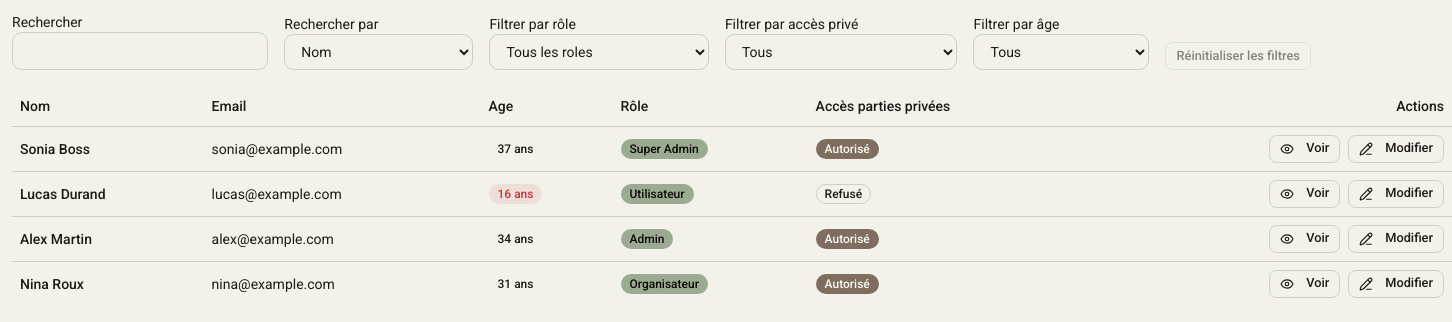
Test case: UserTable › resets all filters when clicking the reset button
Expected: the button "Réinitialiser les filtres" is disabled, [1166,42,1311,70]
Select "Admin" in the dropdown labelled "Filtrer par rôle". click: (599, 52)
box: [489,34,709,70]
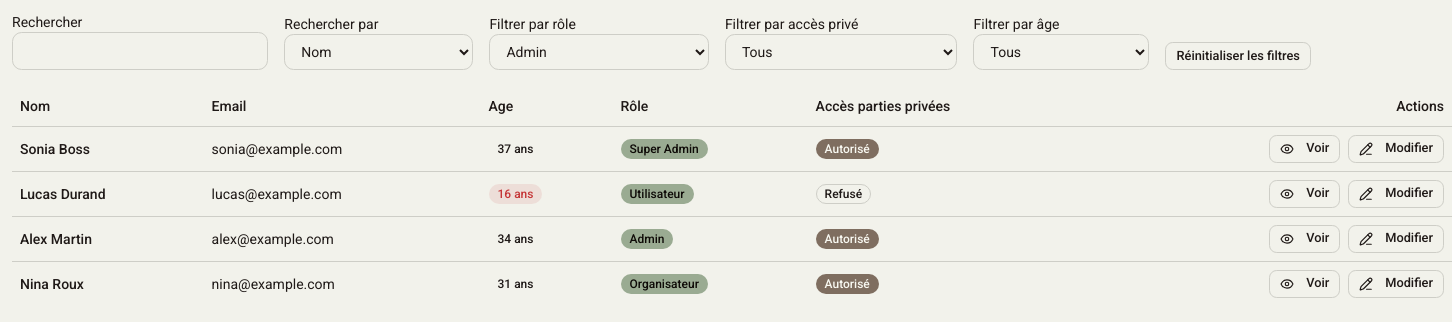
Select "Refusé" in the dropdown labelled "Filtrer par accès privé". click: (841, 52)
box: [725,34,958,70]
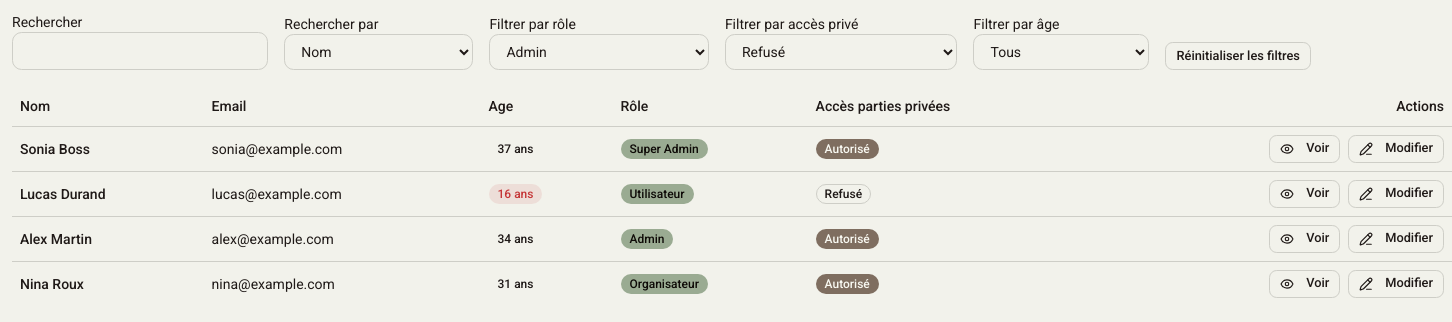
Select "Mineur" in the dropdown labelled "Filtrer par âge". click: (1062, 52)
box: [974,34,1150,70]
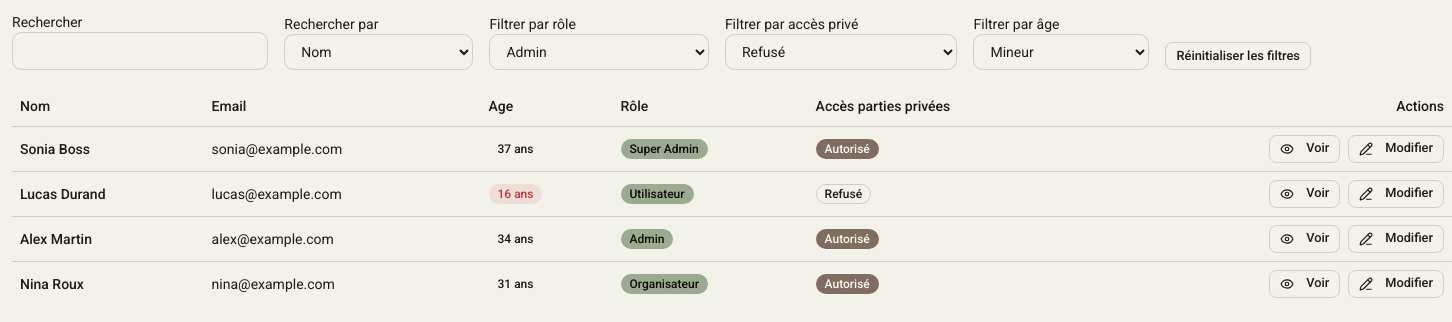
Select "Prénom" in the dropdown labelled "Rechercher par". click: (379, 52)
box: [284,34,473,70]
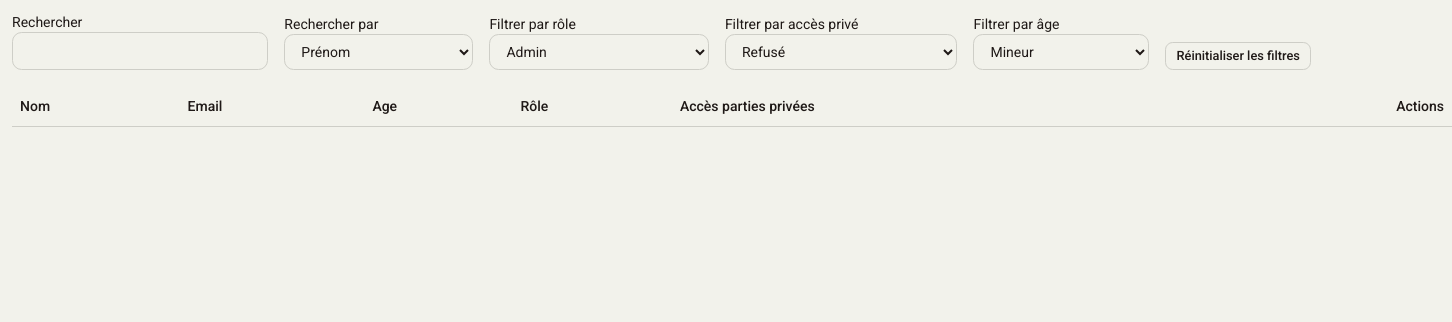
Expected: the button "Réinitialiser les filtres" is enabled
Click the button "Réinitialiser les filtres". click: (1238, 56)
box: [1166,42,1311,70]
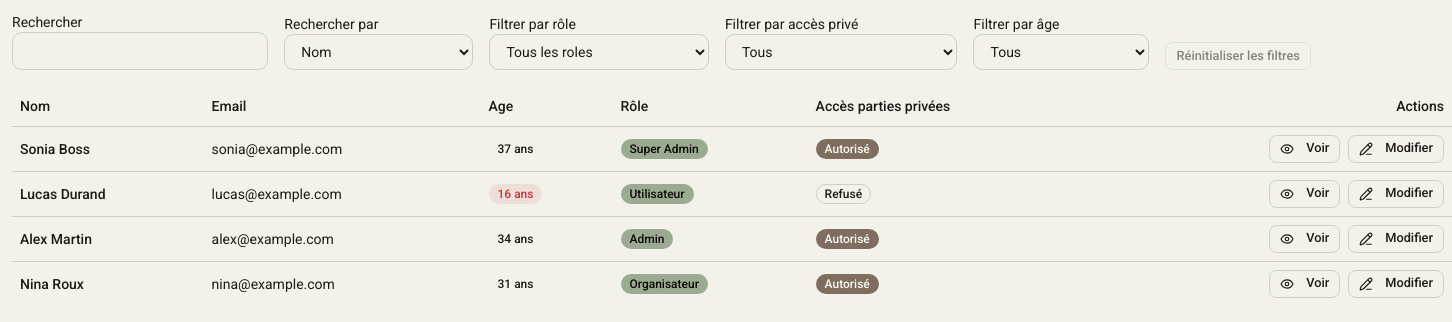
Expected: the text "Alex Martin" is shown, [12,216,204,261]
Expected: the text "Lucas Durand" is shown, [12,171,204,216]
Expected: the text "Nina Roux" is shown, [12,261,204,306]
